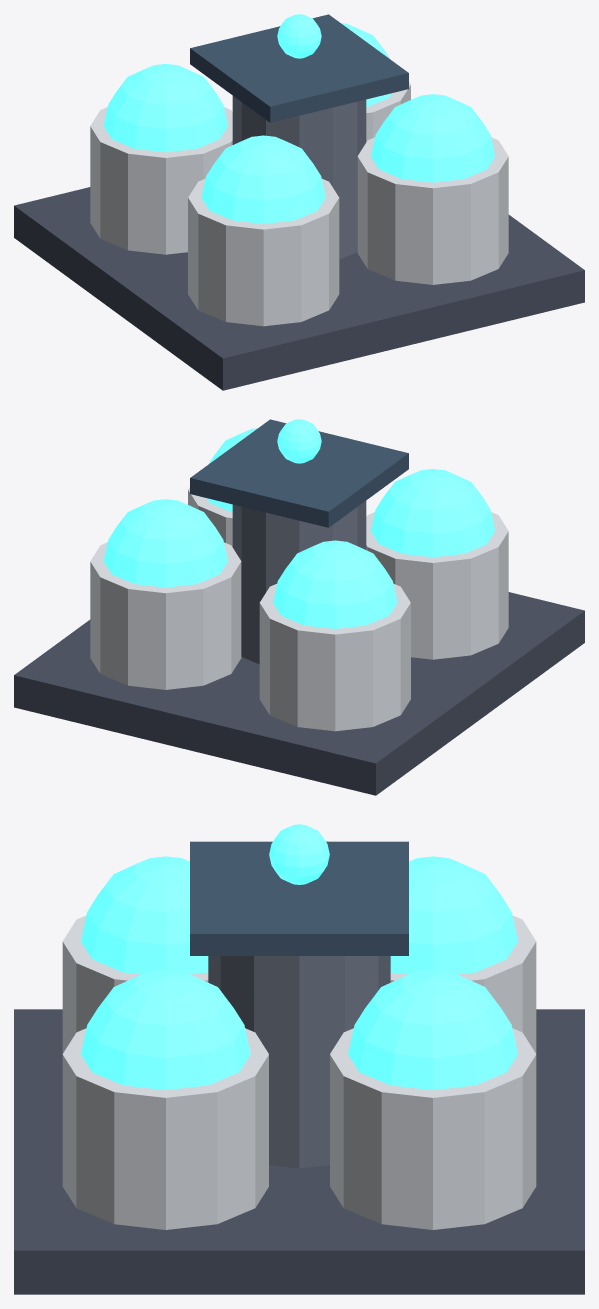
File: landmark_pod_shelter.glb
3 views of the same model, one above another, from view 1: azimuth 30°, elevation 25°; view 2: azimuth 150°, elevation 25°; view 3: azimuth 270°, elevation 25° (orthographic). The views are drawn at different scales.
Parts seen in each view (by area): view 1: plinth, pod_0, pod_1, solar_canopy, pod_2, BioDome_1, BioDome_2, BioDome_0, central_hub, Beacon, pod_3, BioDome_3; view 2: plinth, pod_2, pod_3, solar_canopy, pod_0, BioDome_0, BioDome_3, BioDome_2, central_hub, Beacon, pod_1, BioDome_1; view 3: plinth, pod_1, pod_3, solar_canopy, central_hub, BioDome_1, BioDome_3, BioDome_0, BioDome_2, pod_0, pod_2, Beacon.
Part boxes in pixels (x1,y1,x2,y2): plinth: [14, 187, 584, 390]; pod_0: [188, 178, 339, 326]; pod_1: [357, 137, 508, 284]; solar_canopy: [190, 14, 408, 122]; pod_2: [90, 107, 232, 254]; BioDome_1: [371, 94, 495, 182]; BioDome_2: [103, 64, 227, 152]; BioDome_0: [201, 135, 325, 223]; central_hub: [232, 96, 366, 259]; Beacon: [277, 14, 321, 58]; pod_3: [366, 82, 410, 141]; BioDome_3: [341, 23, 391, 107]; plinth: [14, 592, 584, 795]; pod_2: [259, 583, 410, 731]; pod_3: [90, 542, 241, 689]; solar_canopy: [190, 419, 408, 527]; pod_0: [366, 512, 508, 659]; BioDome_0: [371, 469, 495, 557]; BioDome_3: [103, 499, 227, 587]; BioDome_2: [273, 540, 397, 628]; central_hub: [232, 501, 366, 664]; Beacon: [277, 419, 321, 463]; pod_1: [188, 487, 232, 546]; BioDome_1: [207, 428, 257, 512]; plinth: [14, 1009, 584, 1294]; pod_1: [62, 1028, 268, 1229]; pod_3: [330, 1028, 536, 1229]; solar_canopy: [190, 841, 408, 955]; central_hub: [208, 956, 390, 1168]; BioDome_1: [81, 969, 250, 1090]; BioDome_3: [348, 969, 517, 1090]; BioDome_0: [81, 856, 208, 974]; BioDome_2: [390, 856, 517, 974]; pod_0: [62, 915, 208, 1053]; pod_2: [390, 915, 536, 1053]; Beacon: [269, 824, 329, 884].
Size of the model in its own units: 0.94 by 0.63 by 0.94.
